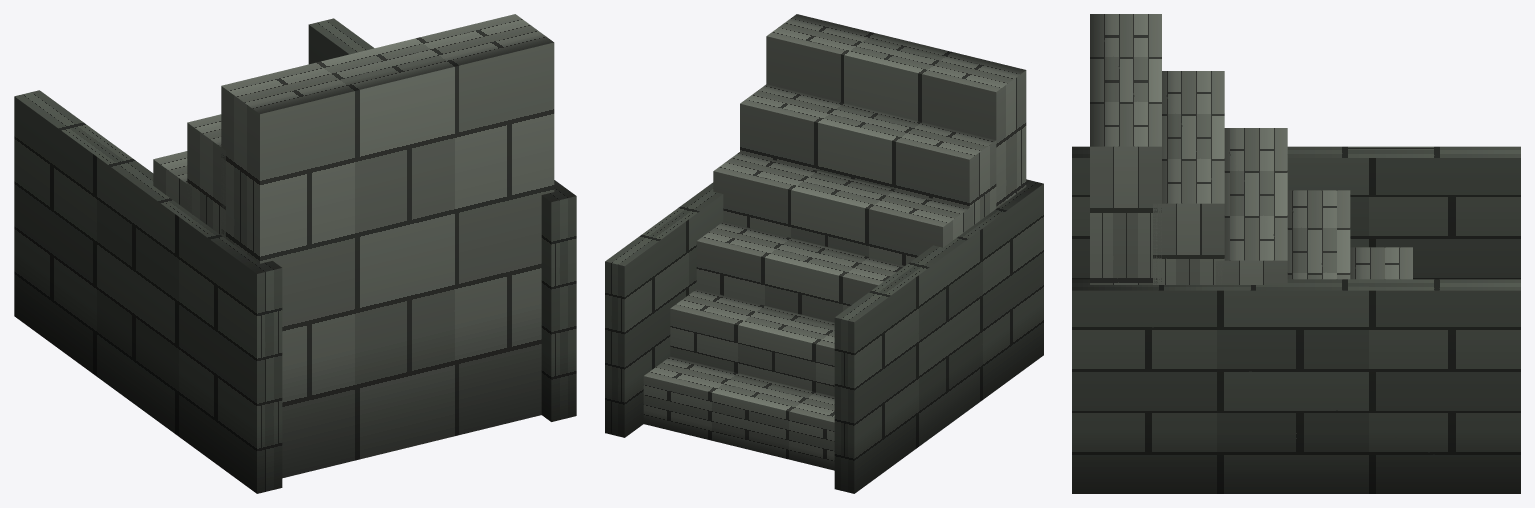
The model's file is stairs_stone.gltf.
The picture shows the model from 3 angles, left to right: view 1: azimuth 30°, elevation 25°; view 2: azimuth 150°, elevation 25°; view 3: azimuth 270°, elevation 25°; orthographic projection. The views are drawn at different scales.
Parts seen in each view (by area): view 1: stairs_stone; view 2: stairs_stone; view 3: stairs_stone.
Part boxes in pixels (x1,y1,x2,y2): stairs_stone: [14, 14, 576, 493]; stairs_stone: [605, 14, 1043, 493]; stairs_stone: [1072, 14, 1520, 493].
Size of the model in its own units: 0.76 by 0.84 by 1.
1 material, 1 textured.
